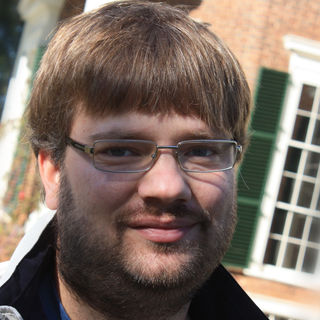eye: (95, 140, 145, 163), (182, 141, 220, 163)
